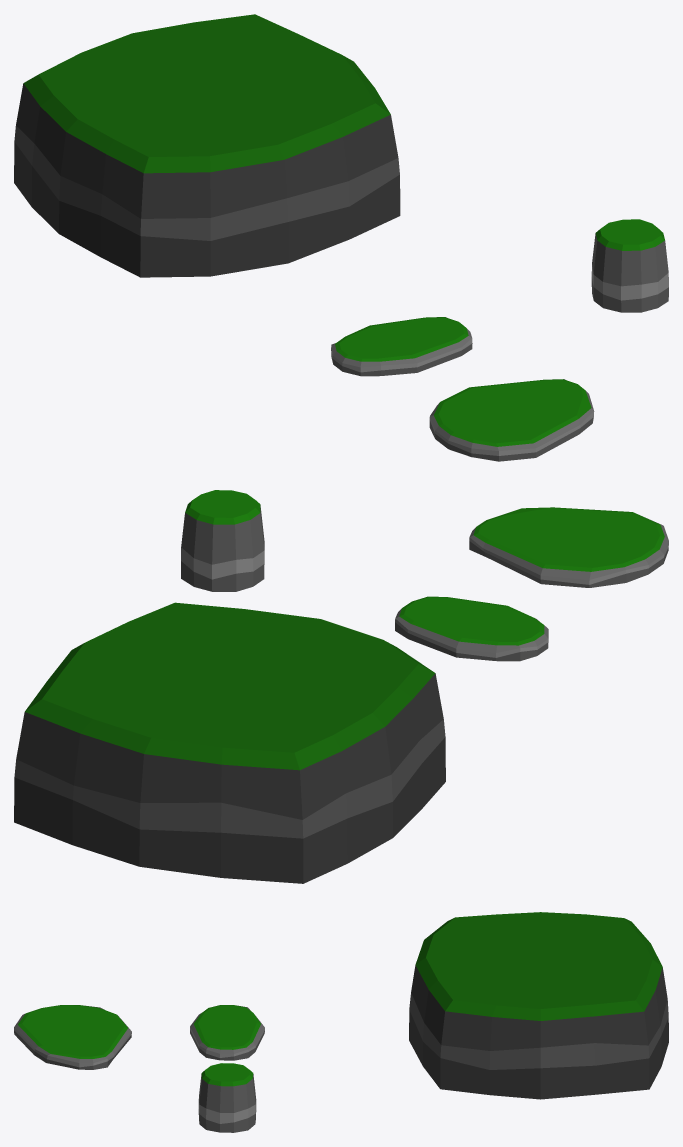
File: ModularPaysage.glb
3 views of the same model, one above another, from view 1: azimuth 30°, elevation 25°; view 2: azimuth 150°, elevation 25°; view 3: azimuth 270°, elevation 25° (orthographic). The views are drawn at different scales.
Visible parts, largest first — view 1: Cube-col, Plane.002-col, Plane-col, Plane.001-col; view 2: Cube-col, Plane.002-col, Plane-col, Plane.001-col; view 3: Cube-col, Plane.002-col, Plane-col, Plane.001-col.
Boxes of the visible parts, box(x1,y1,x2,y2) form: Cube-col: box(14, 14, 400, 277); Plane.002-col: box(429, 379, 594, 461); Plane-col: box(591, 219, 668, 312); Plane.001-col: box(331, 317, 472, 376); Cube-col: box(14, 602, 445, 883); Plane.002-col: box(469, 507, 668, 587); Plane-col: box(181, 490, 264, 591); Plane.001-col: box(395, 596, 548, 661); Cube-col: box(409, 912, 668, 1099); Plane.002-col: box(14, 1005, 131, 1069); Plane-col: box(198, 1063, 256, 1132); Plane.001-col: box(190, 1005, 264, 1060).
Bounding box in the file's own units: 10.97 × 2.93 × 20.9.
1 material, 1 textured.
